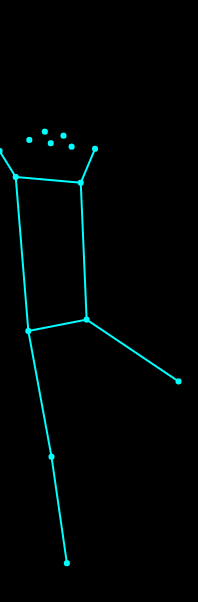tree: (1, 119, 184, 571)
